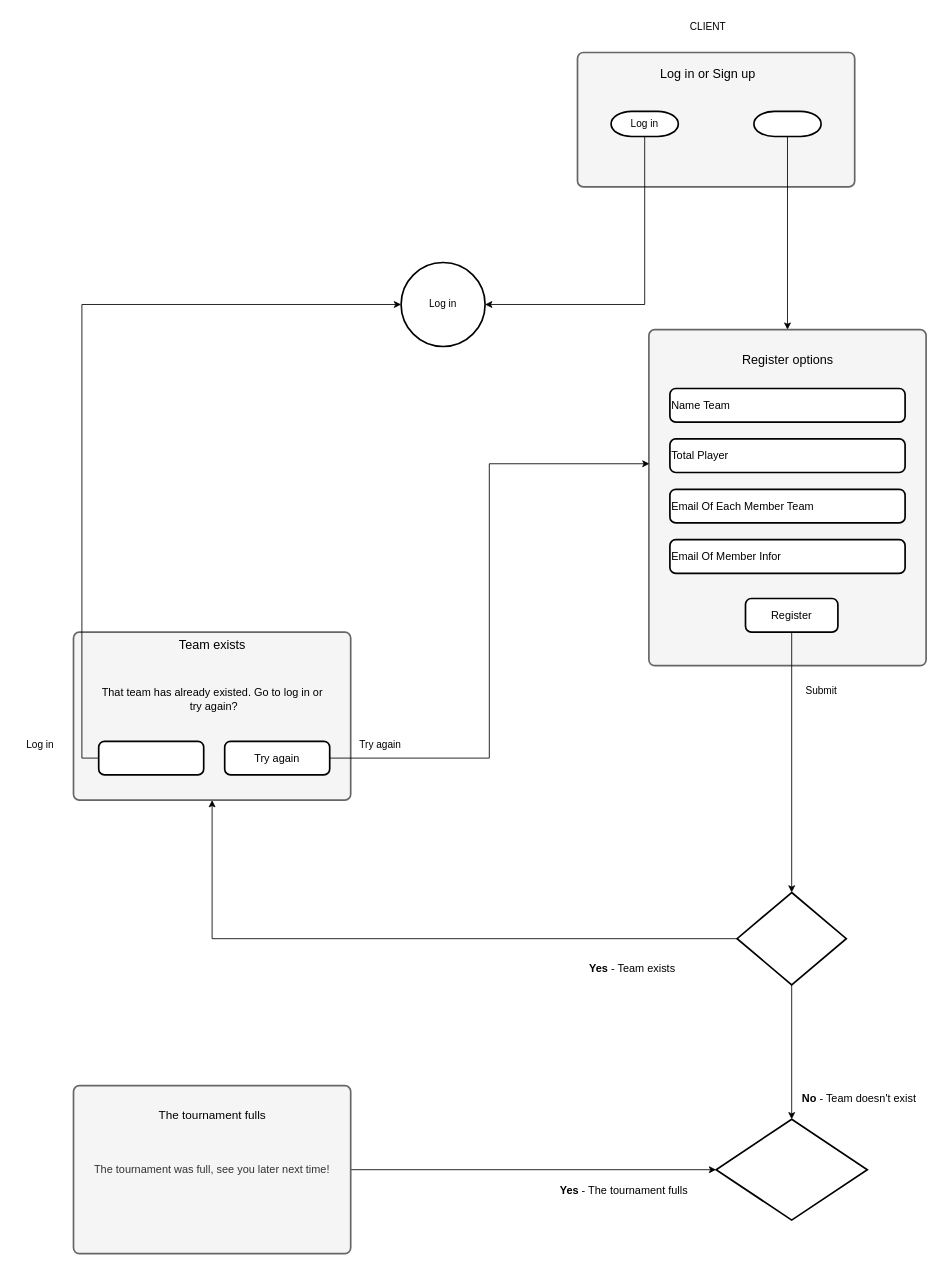
This 941x1268 diagram has some shape labels left out. Here are the shapes that lost their labels. From the top down, the centre of each, then its label:
At pixel 787 123: "Sign up".
At pixel 150 757: "Go to login".
At pixel 791 938: "Valid name team, Email?".
At pixel 791 1169: "Check if there are any slots left in the tournament?".
